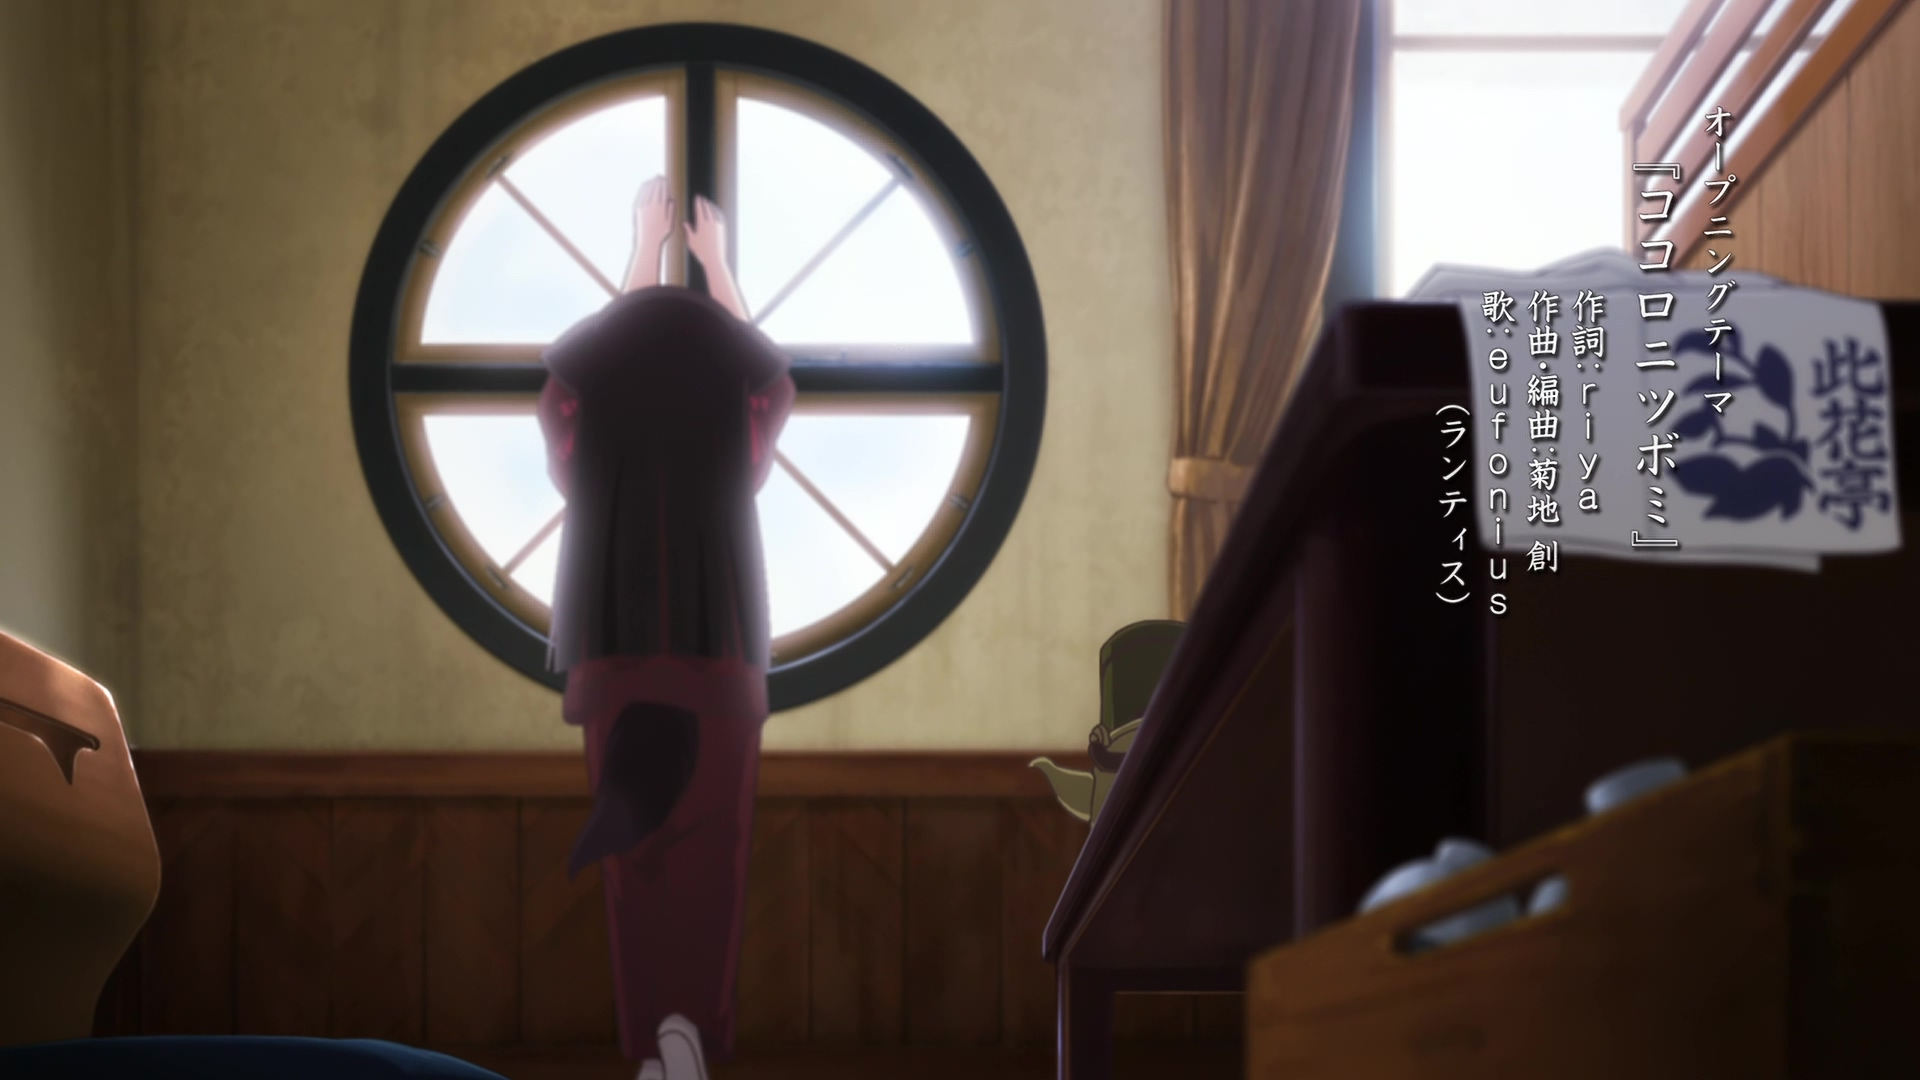樱: (543, 175, 794, 1080)
